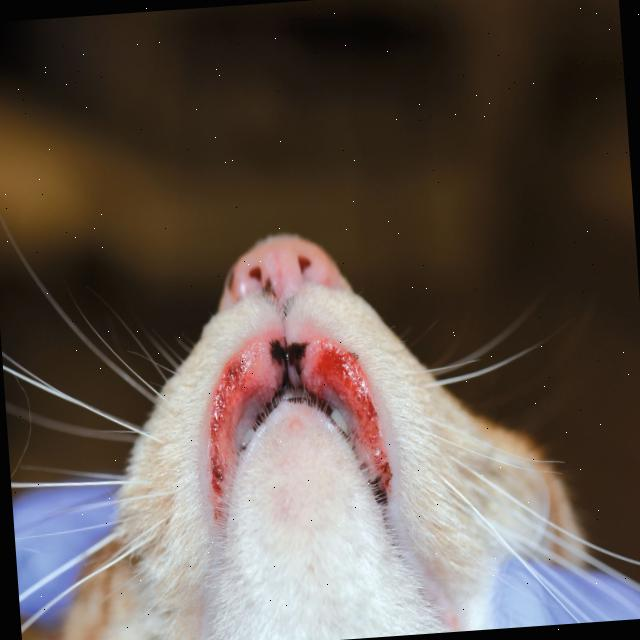cat-ulcer: (306, 339, 352, 399), (210, 403, 235, 466), (222, 356, 262, 394), (356, 400, 382, 456)
